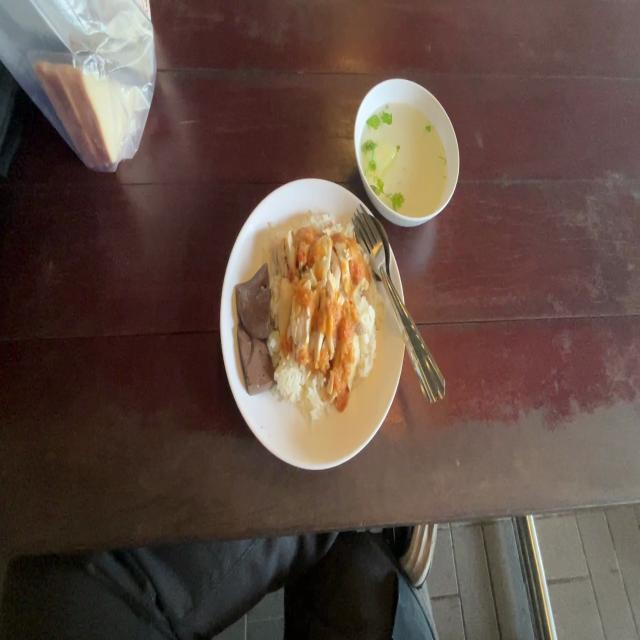chicken_rice: (276, 283, 353, 377), (278, 224, 369, 289)
noodle: (240, 263, 269, 340), (240, 329, 271, 386)
